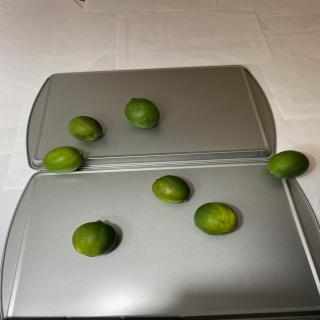Apple: (124, 98, 160, 128), (68, 116, 102, 141)
Lemon: (72, 220, 117, 257), (194, 202, 238, 235), (42, 146, 84, 174), (152, 175, 190, 203)
